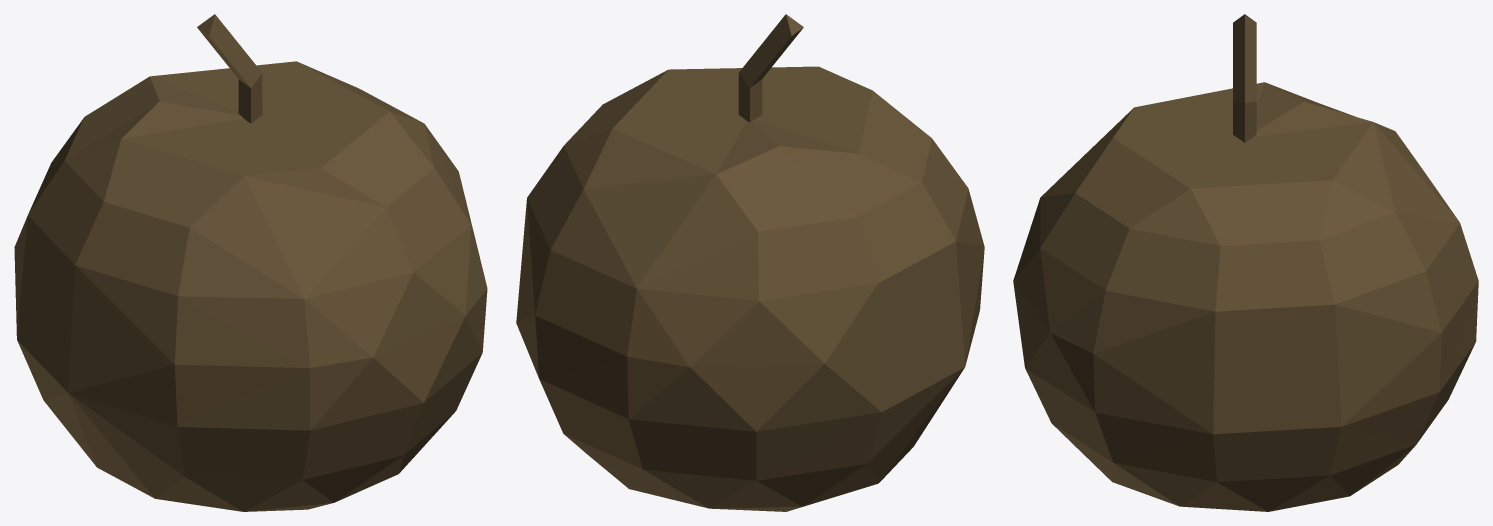
The model's file is ITFO_APPLE.OBJ.
3 views of the same model, side by side, from view 1: azimuth 30°, elevation 25°; view 2: azimuth 150°, elevation 25°; view 3: azimuth 270°, elevation 25° (orthographic). The views are drawn at different scales.
Parts seen in each view (by area): view 1: ITFO_APPLE; view 2: ITFO_APPLE; view 3: ITFO_APPLE.
Part boxes in pixels (x1,y1,x2,y2): ITFO_APPLE: (14,14,487,511); ITFO_APPLE: (516,14,984,511); ITFO_APPLE: (1013,14,1478,511).
Bounding box in the file's own units: 0.1306 × 0.1447 × 0.1387.
